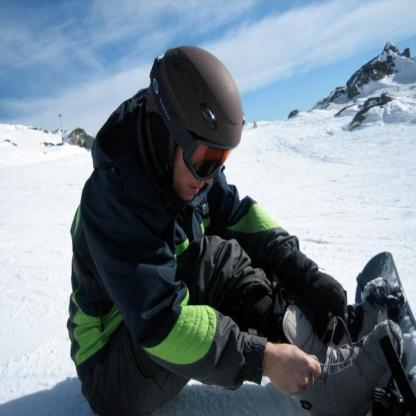Helmet: (134, 47, 245, 219)
